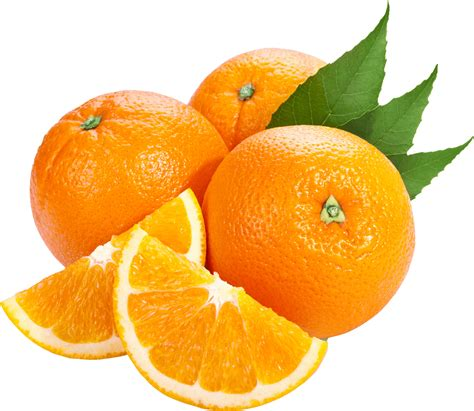orange: (202, 122, 423, 342), (27, 87, 229, 262), (182, 39, 347, 136)
